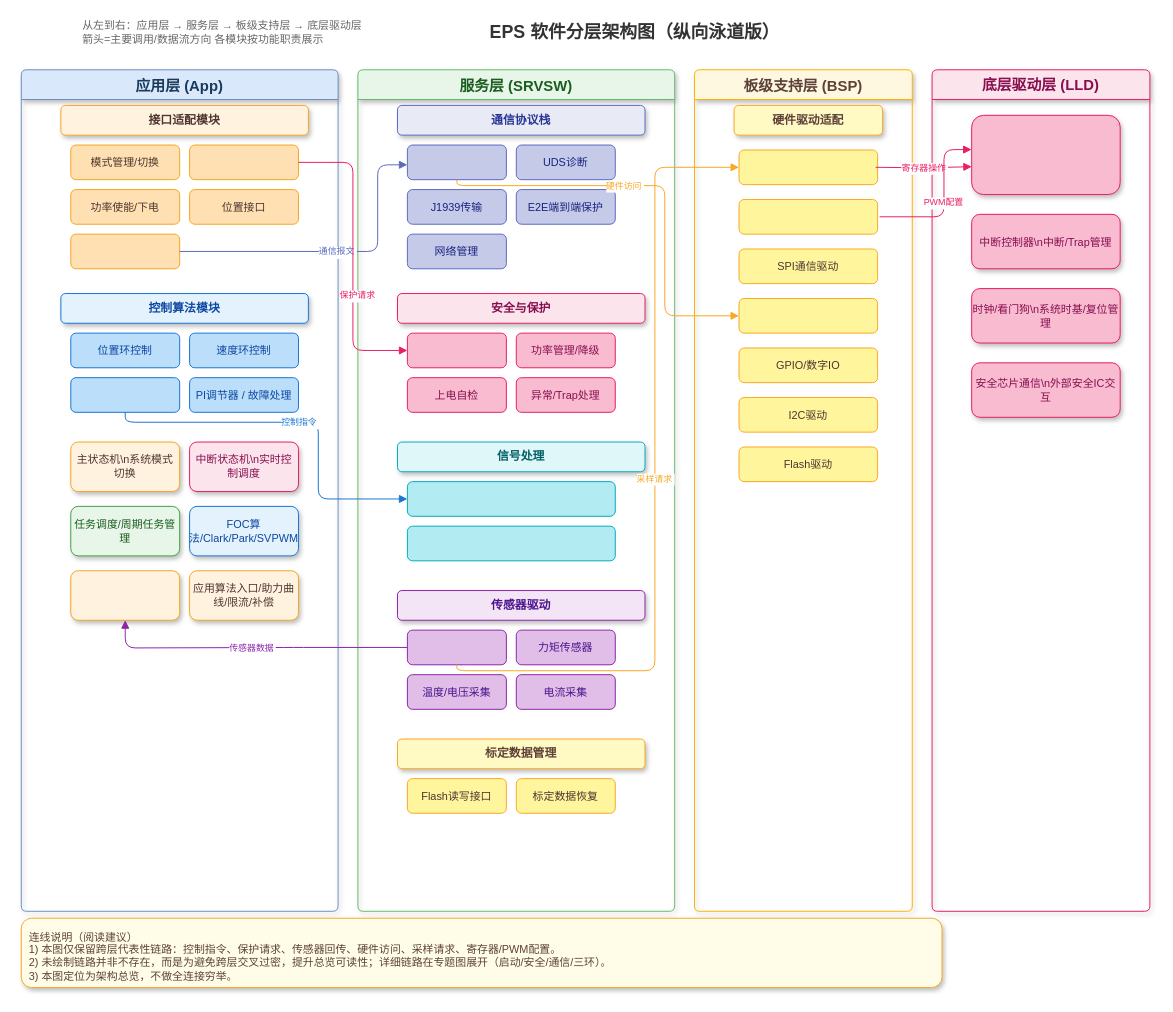
This 1173x1012 diagram has some shape labels left out. Here are the shapes that lost their labels. From the top down, the centre of each, then its label:
the point at 243,162: 保护策略调度
the point at 456,162: CAN收发
the point at 808,167: ADC采样驱动
the point at 1046,155: 微控制器抽象层(MCAL)/ADC/PWM/ SPI/CAN/GPT/ICU
the point at 808,216: PWM输出驱动
the point at 125,251: 通信接口
the point at 808,315: CAN硬件驱动
the point at 456,350: 保护逻辑
the point at 125,394: 电流环控制
the point at 510,498: 信号滤波/归一化
the point at 510,543: 异常检测 / 信号有效性判断
the point at 126,596: 位置解算/初始位置学习
the point at 456,647: 位置传感器采集
